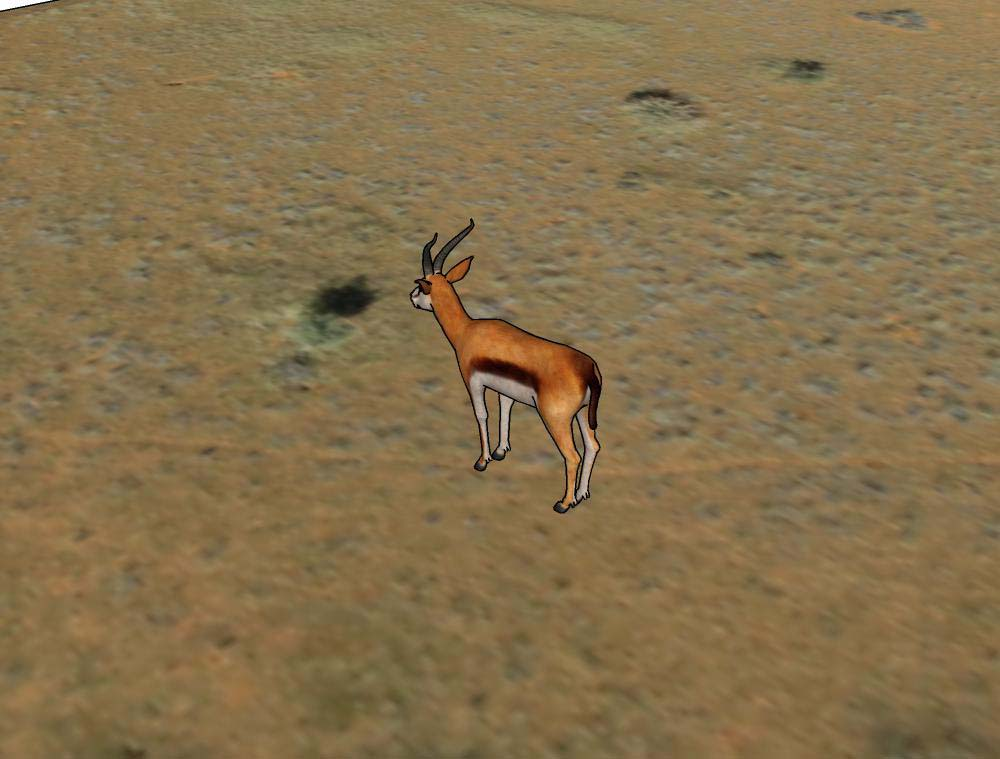springbok: (409, 216, 609, 517)
